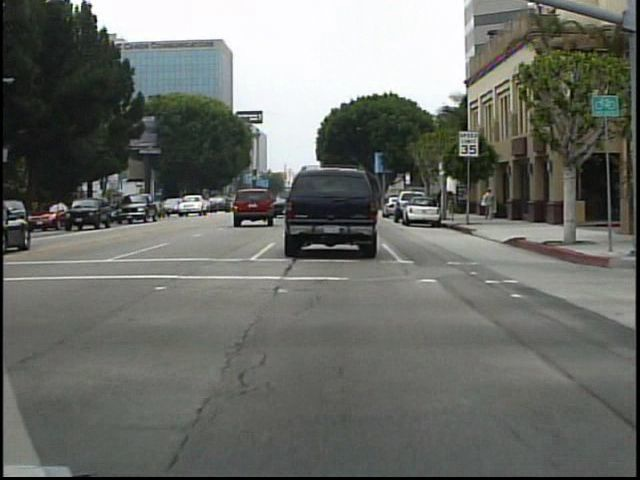person: (479, 181, 497, 224), (434, 186, 449, 221)
